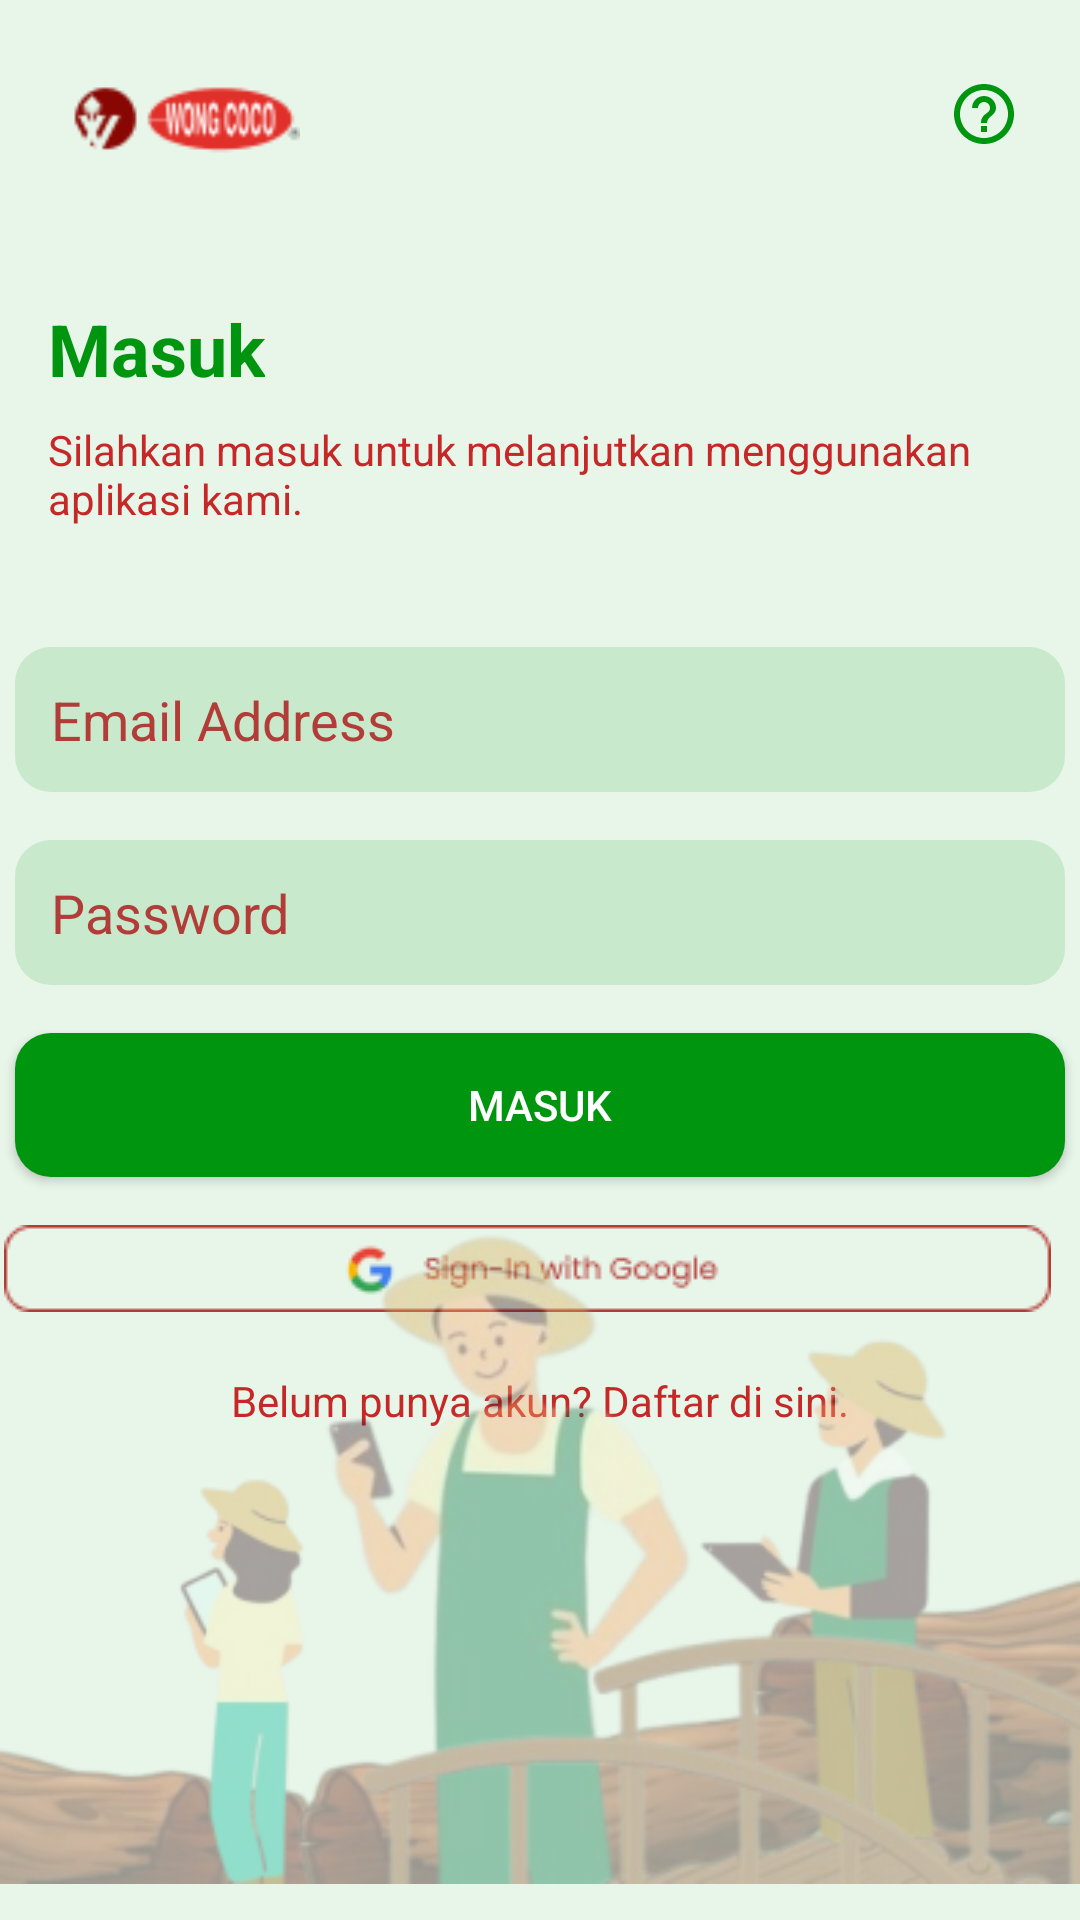

Named icons in this screenshot (1080 × 1920) and their bounding boxes, (x1, y1, x2, y2):
Help Icon: (954, 84, 1014, 144)
